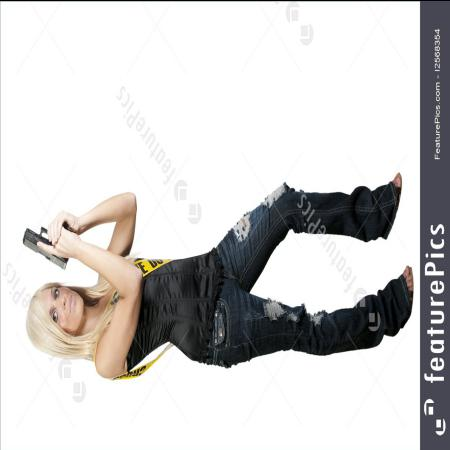Pistol: (22, 224, 73, 270)
